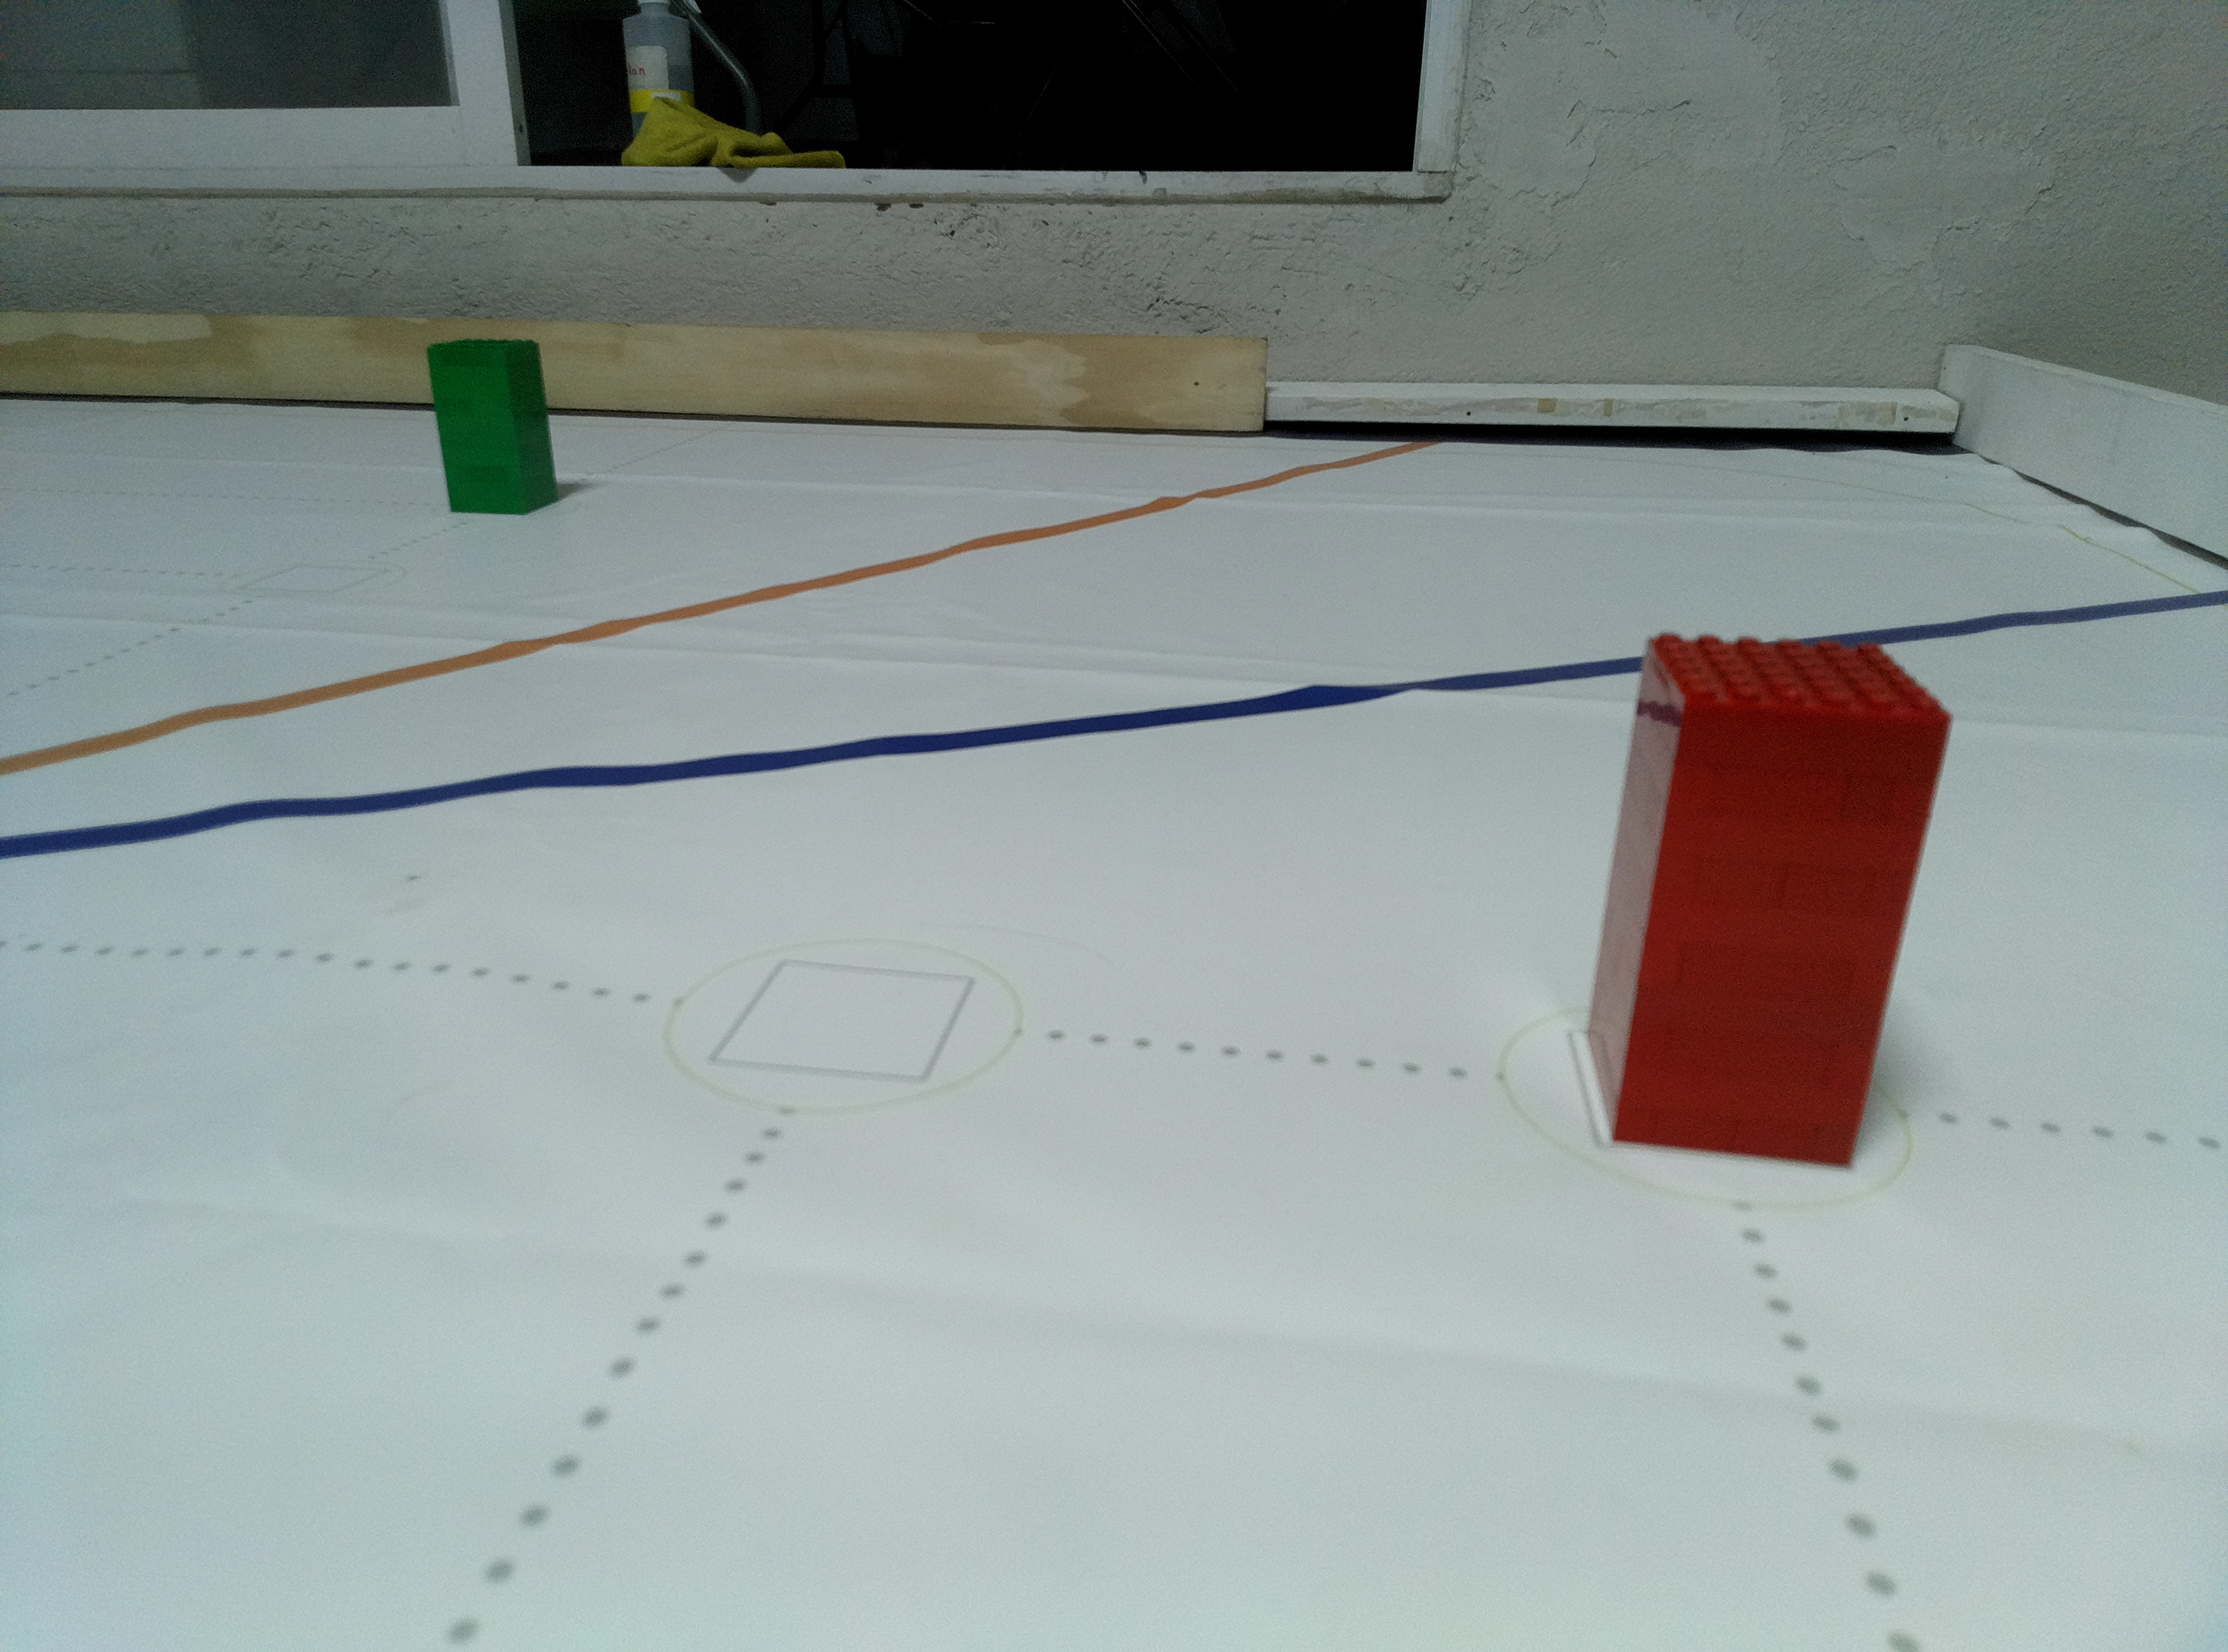greenbox: (425, 337, 562, 519)
redbox: (1576, 630, 1957, 1168)
